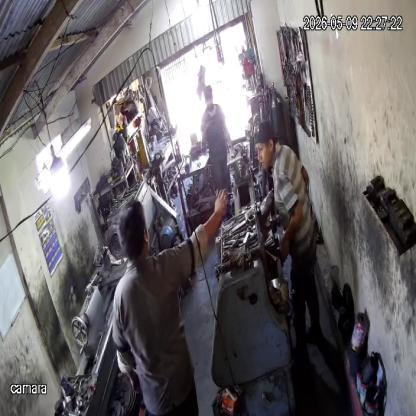sin_lentes: (255, 142, 267, 156)
